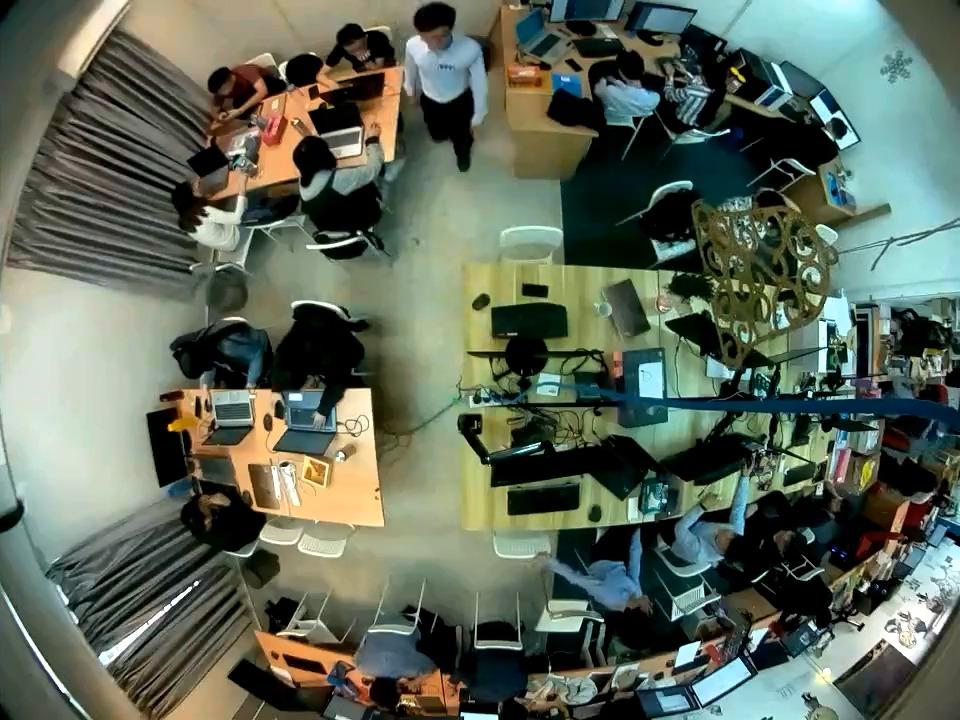name-tag: (436, 62, 456, 72)
